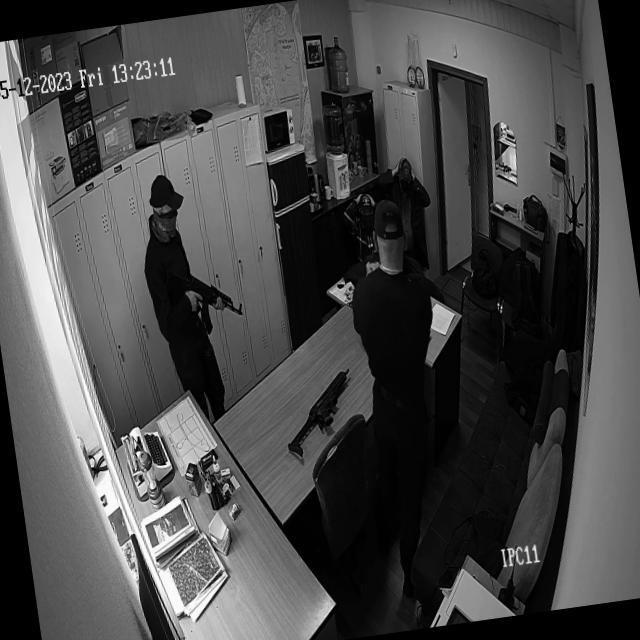gun: (277, 342, 365, 457), (174, 248, 248, 331)
person: (347, 189, 460, 599), (384, 156, 438, 234), (345, 192, 382, 250)
person with a gun: (137, 164, 232, 448)
